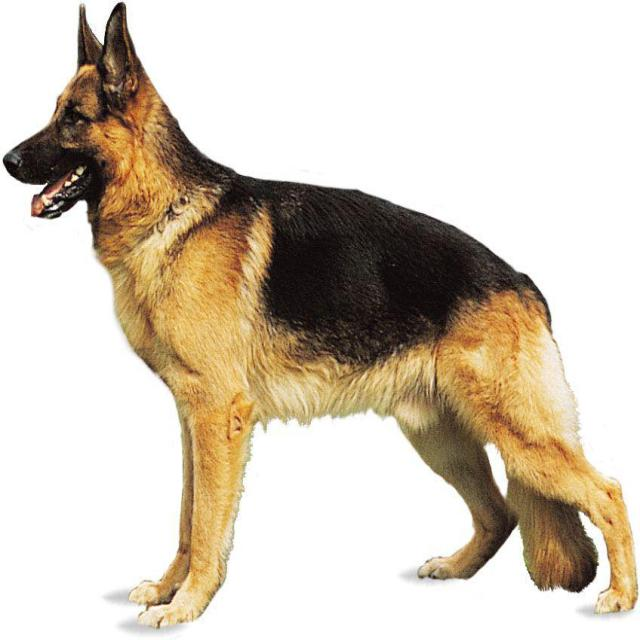Dog: (2, 0, 161, 238)
